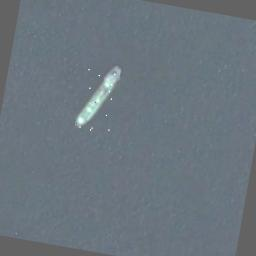boat: (74, 61, 122, 134)
